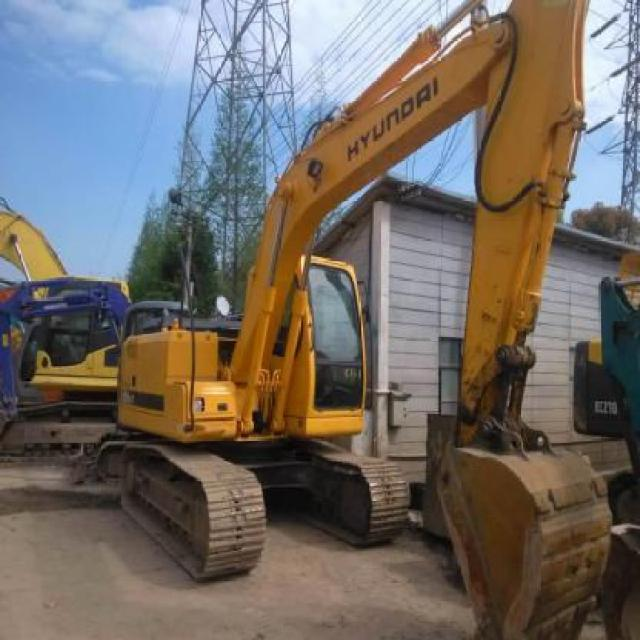excavator: (117, 0, 614, 634)
